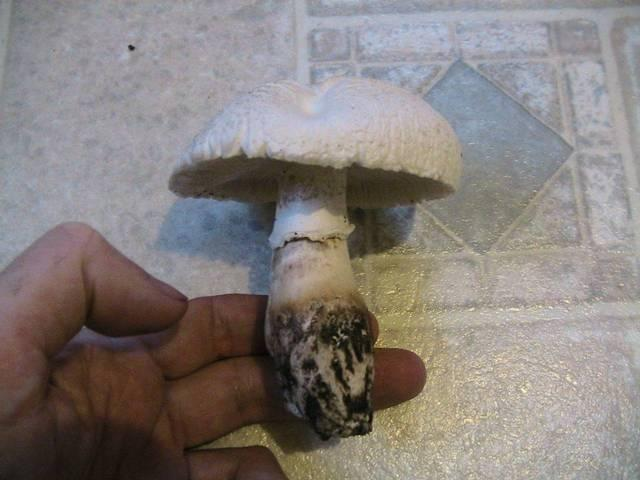Non-edible Mushroom: (166, 73, 463, 440)
